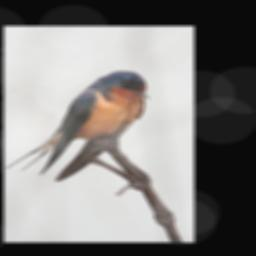Swallow: (7, 69, 151, 181)
